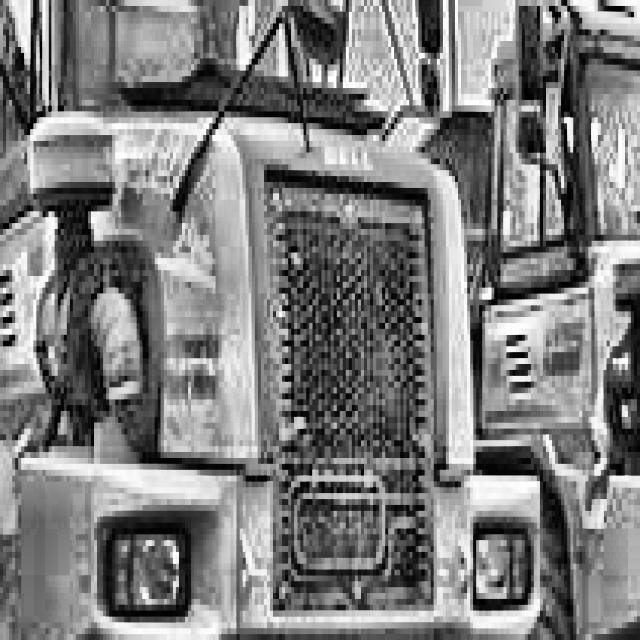dump_truck: (0, 0, 519, 640), (503, 0, 640, 640)
